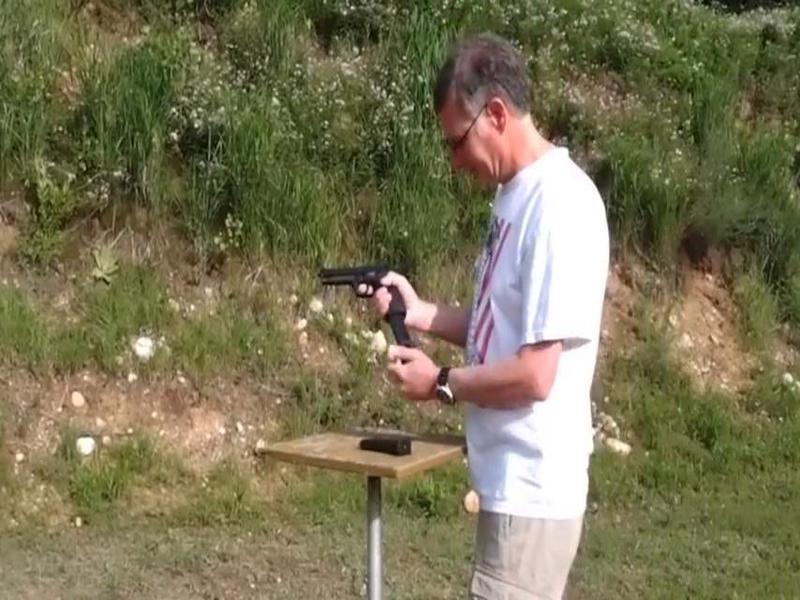Pistola: (315, 250, 412, 333)
